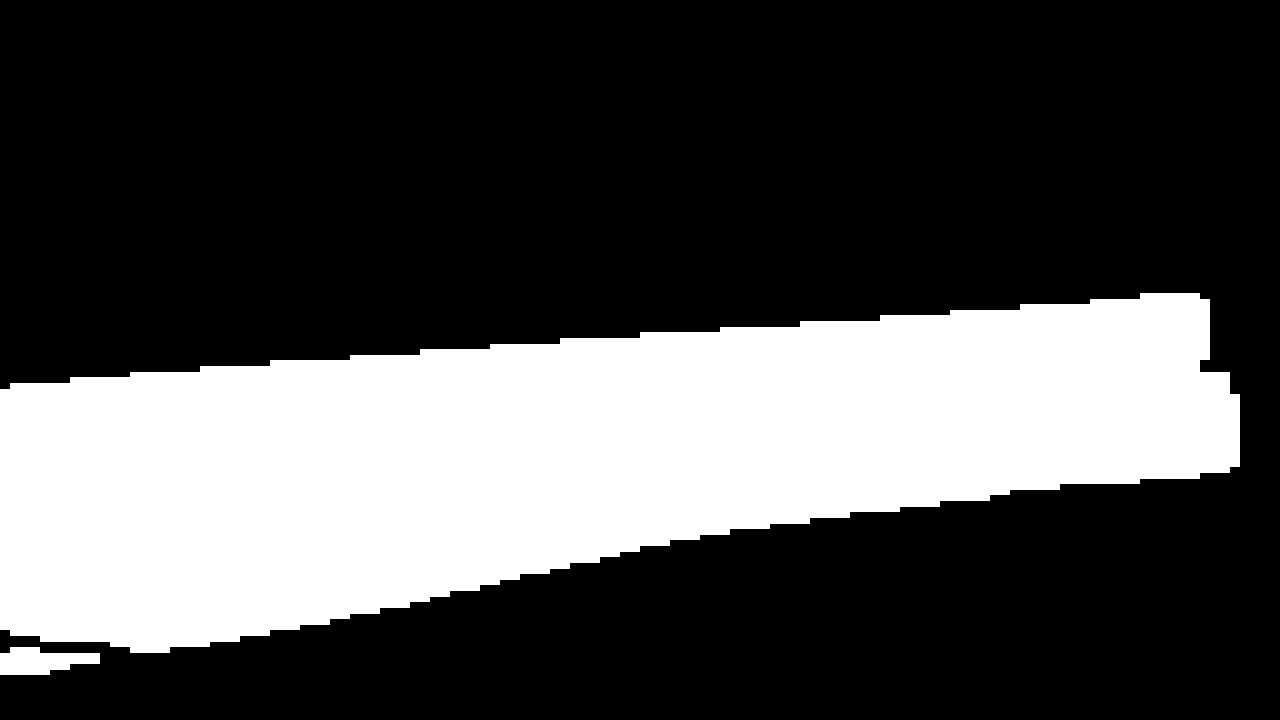Turbine: (5, 245, 1221, 678)
